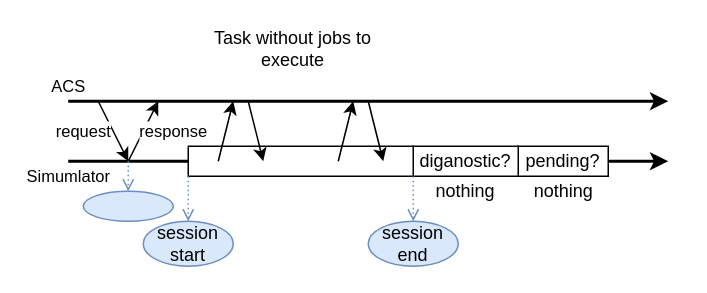
Some shapes in this 707 by 293 pixel diagram are drawn without their labels. The shapes that lost their labels are listed below. From the top down, each one's centre as x and y in pixels, then its label:
(x=300, y=160): session
(x=127, y=205): requested
